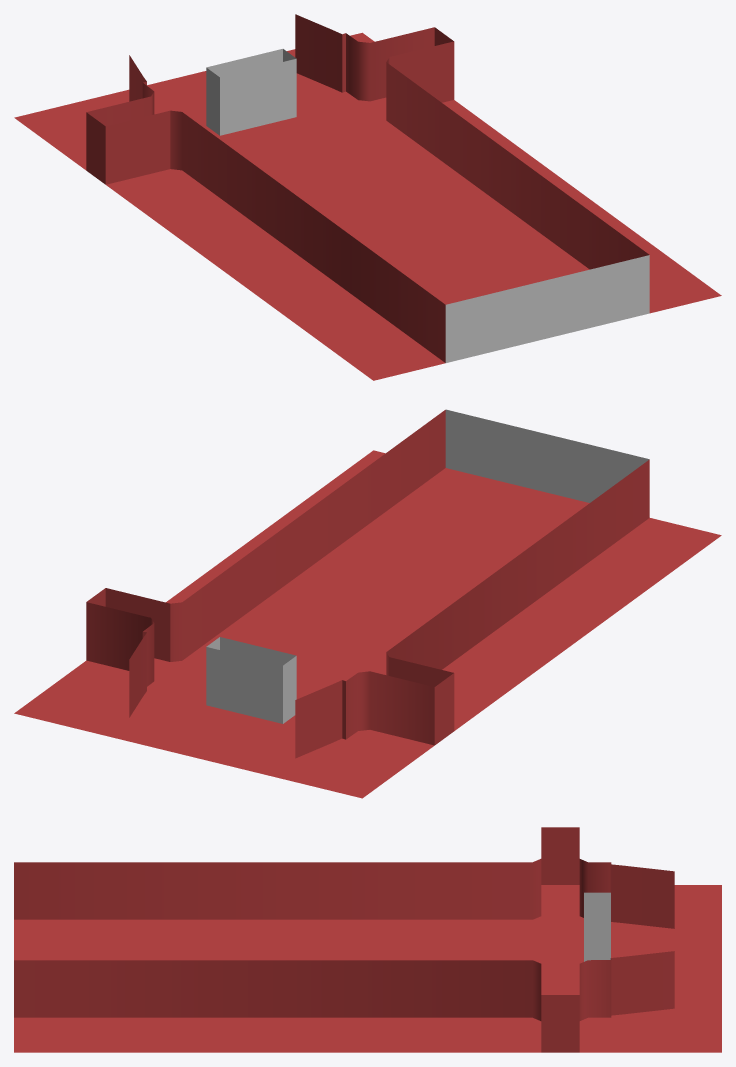
File: studio_collider.obj
3 renders of one model, top to bottom at view 1: azimuth 30°, elevation 25°; view 2: azimuth 150°, elevation 25°; view 3: azimuth 270°, elevation 25°, orthographic.
Visible parts, largest first — view 1: level_Plane; view 2: level_Plane; view 3: level_Plane.
Boxes of the visible parts, box(x1,y1,x2,y2) form: level_Plane: box(14, 14, 721, 380); level_Plane: box(14, 409, 721, 798); level_Plane: box(14, 827, 721, 1052).
Size of the model in its own units: 30.02 by 4.81 by 53.65.
